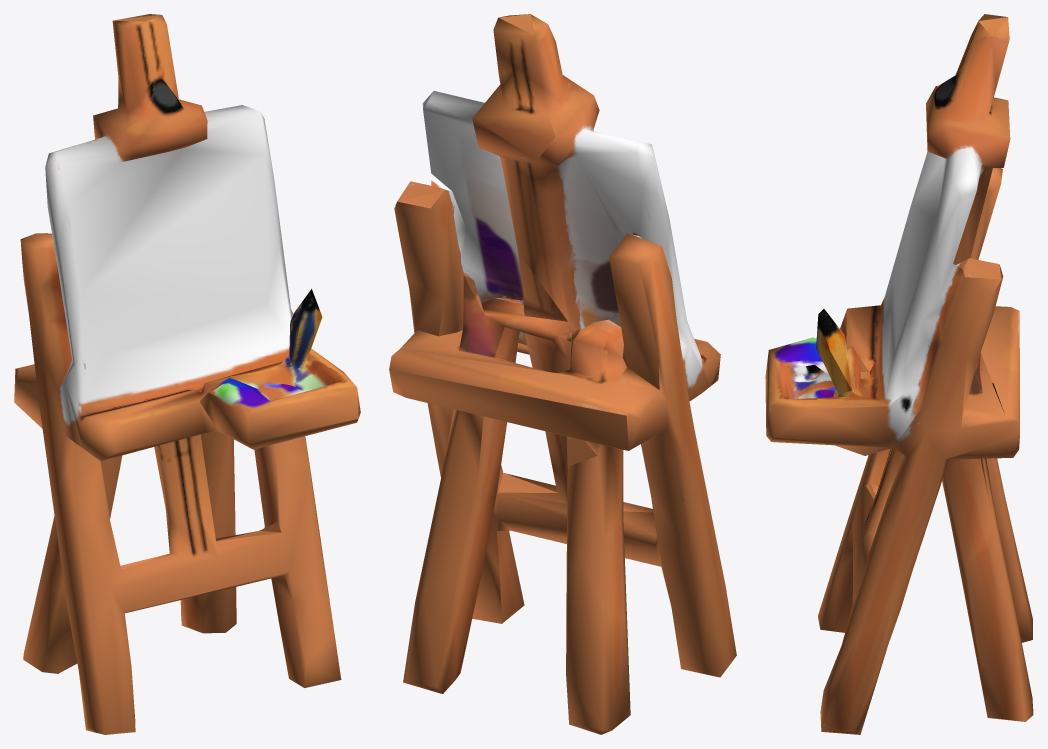
The model's file is tinytown-art-easel.glb.
3 renders of one model, left to right at view 1: azimuth 30°, elevation 25°; view 2: azimuth 150°, elevation 25°; view 3: azimuth 270°, elevation 25°, orthographic. The views are drawn at different scales.
Parts seen in each view (by area): view 1: geometry_0.001; view 2: geometry_0.001; view 3: geometry_0.001.
Part boxes in pixels (<box>): geometry_0.001: <box>14,14,360,734</box>; geometry_0.001: <box>389,14,736,734</box>; geometry_0.001: <box>765,14,1033,734</box>.
Bounding box in the file's own units: 0.399 × 0.9969 × 0.3694.
1 material, 1 textured.
